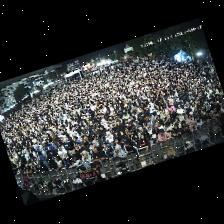person: (123, 141, 140, 163), (57, 147, 70, 167), (36, 151, 49, 169), (137, 134, 150, 152), (63, 138, 74, 156), (92, 147, 105, 161), (157, 130, 170, 142), (113, 146, 125, 158), (95, 126, 106, 139), (79, 142, 90, 155), (105, 131, 113, 148), (72, 136, 80, 153), (129, 129, 138, 144), (81, 151, 91, 164), (46, 139, 56, 152), (44, 142, 54, 155), (171, 124, 181, 137), (37, 161, 47, 173), (46, 158, 56, 170), (71, 154, 81, 166), (30, 157, 39, 170), (119, 130, 128, 143), (163, 114, 173, 125), (185, 113, 194, 125), (54, 156, 62, 169), (92, 141, 102, 151), (93, 135, 102, 146), (90, 127, 99, 138), (163, 122, 172, 133), (113, 138, 122, 149), (106, 146, 113, 160), (202, 111, 210, 123), (24, 164, 33, 174), (116, 120, 124, 131), (102, 141, 108, 155), (176, 112, 184, 122), (150, 135, 158, 145), (172, 118, 180, 128), (180, 121, 188, 131), (195, 115, 201, 128), (152, 124, 159, 135), (209, 111, 216, 122), (100, 119, 107, 130), (39, 148, 46, 159), (146, 122, 152, 134), (160, 109, 167, 119), (143, 130, 150, 140), (94, 175, 104, 182), (189, 122, 196, 132), (200, 106, 207, 115), (213, 108, 220, 117), (137, 127, 142, 138), (176, 105, 182, 114), (19, 167, 25, 175), (182, 110, 187, 119), (157, 122, 162, 129)
